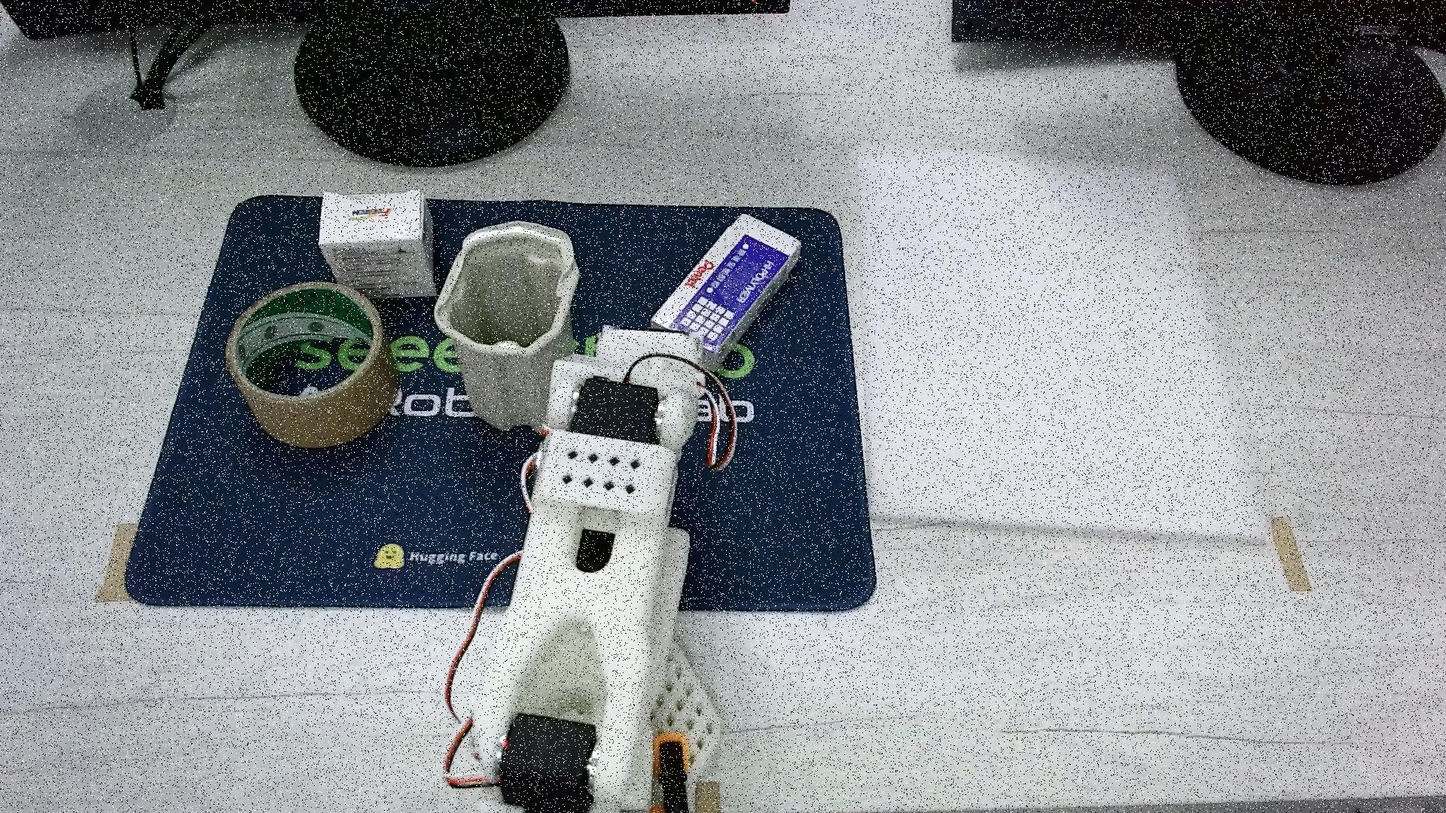eraser: (318, 190, 437, 299)
